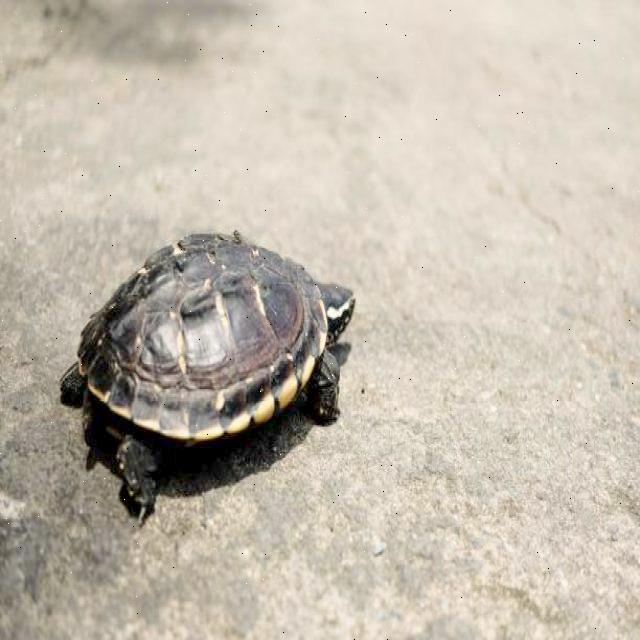tortoise: (69, 219, 358, 525)
